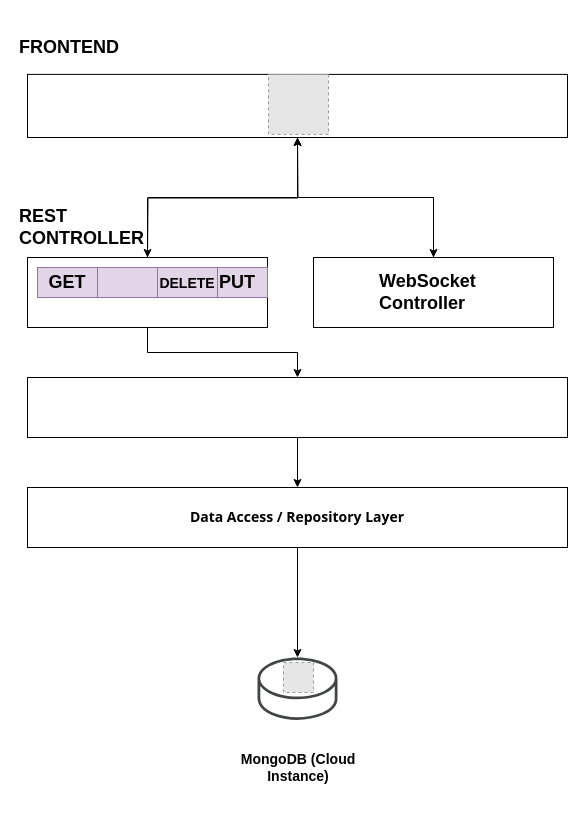
Image size: 585x815. Some labels were removed from this diagram. Grey dashed boxes stand in for pictures. The shapes that lost their labels are listed below. From the top down, each one's box as (x1, y1, x2, y2) in pixels, then its label:
(96, 266, 158, 298): POST
(26, 376, 568, 438): Service Layer
